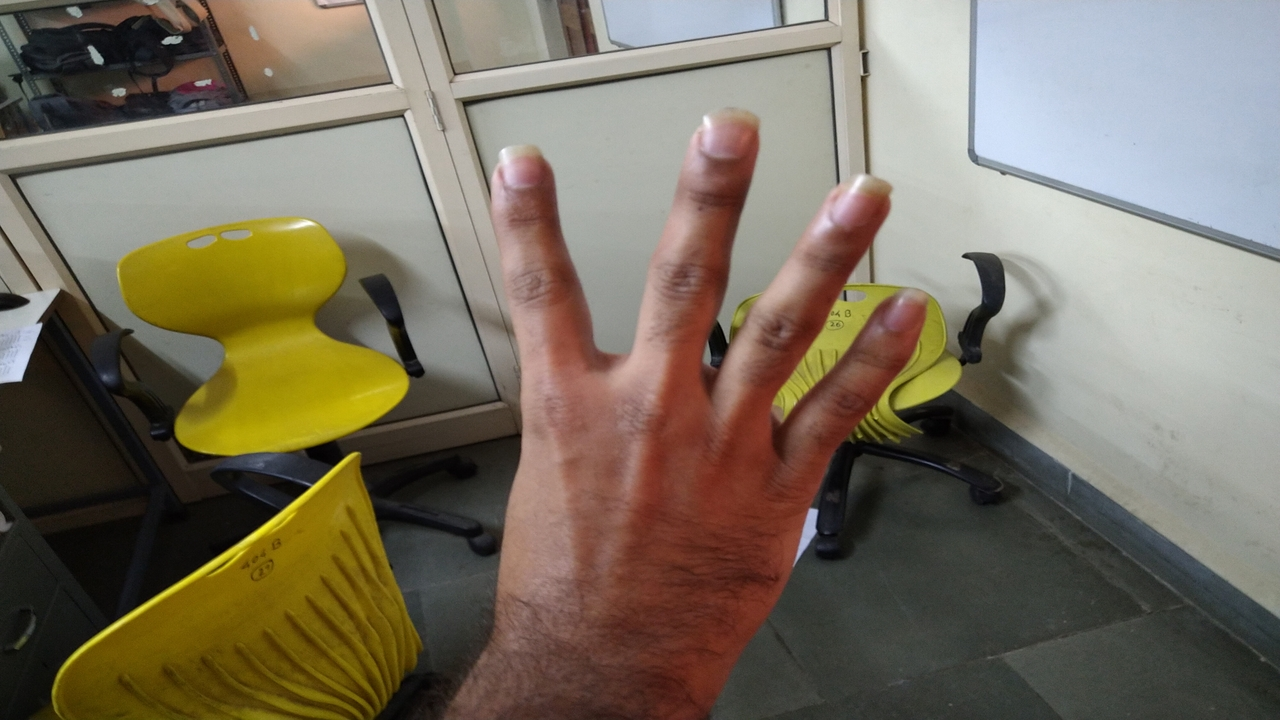fingertip: (678, 102, 766, 176), (824, 160, 898, 230), (486, 142, 560, 206), (866, 288, 934, 350)
